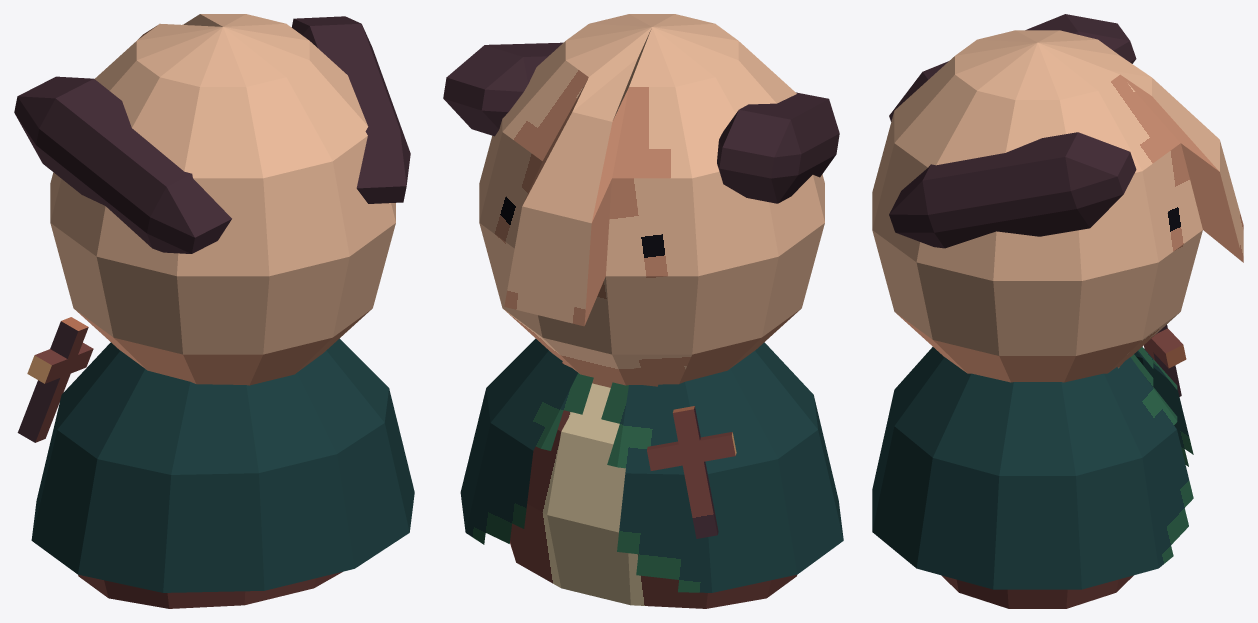
Rendered from Priest.gltf.
The picture shows the model from 3 angles, left to right: view 1: azimuth 30°, elevation 25°; view 2: azimuth 150°, elevation 25°; view 3: azimuth 270°, elevation 25°; orthographic projection. The views are drawn at different scales.
Parts seen in each view (by area): view 1: Body, Dress, Hair, Cross; view 2: Body, Dress, Hair, Cross; view 3: Body, Dress, Hair, Cross.
Boxes of the visible parts, x1,y1,x2,y2 form: Body: (50, 14, 395, 608); Dress: (31, 338, 414, 592); Hair: (14, 16, 410, 253); Cross: (17, 317, 93, 442); Body: (479, 14, 824, 608); Dress: (460, 338, 843, 592); Hair: (443, 42, 839, 203); Cross: (647, 406, 736, 538); Body: (872, 30, 1243, 608); Dress: (872, 346, 1193, 589); Hair: (889, 14, 1136, 248); Cross: (1144, 324, 1186, 396).
Bounding box in the file's own units: 1.12 × 1.69 × 1.12.
1 material, 1 textured.
